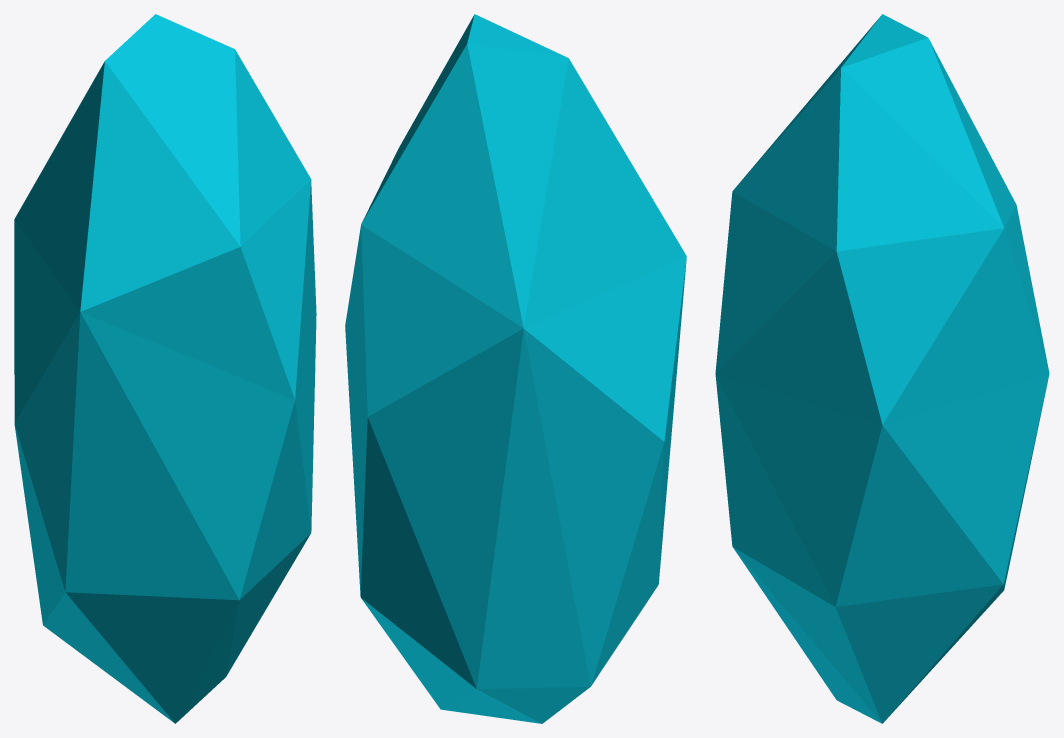
The model's file is Cristal base.fbx.
3 views of the same model, side by side, from view 1: azimuth 30°, elevation 25°; view 2: azimuth 150°, elevation 25°; view 3: azimuth 270°, elevation 25° (orthographic). The views are drawn at different scales.
Visible parts, largest first — view 1: Icosphere; view 2: Icosphere; view 3: Icosphere.
Boxes of the visible parts, x1,y1,x2,y2 form: Icosphere: [14, 14, 316, 723]; Icosphere: [345, 14, 686, 723]; Icosphere: [715, 14, 1049, 723].
Size of the model in its own units: 52.06 by 110 by 49.51.
